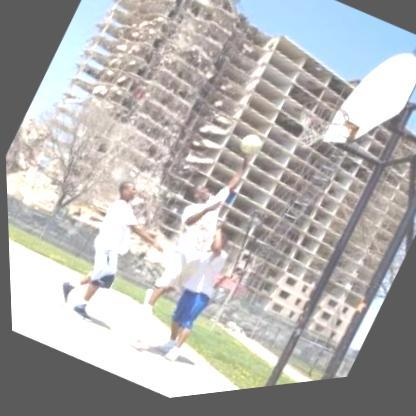basketball: (229, 129, 269, 169)
